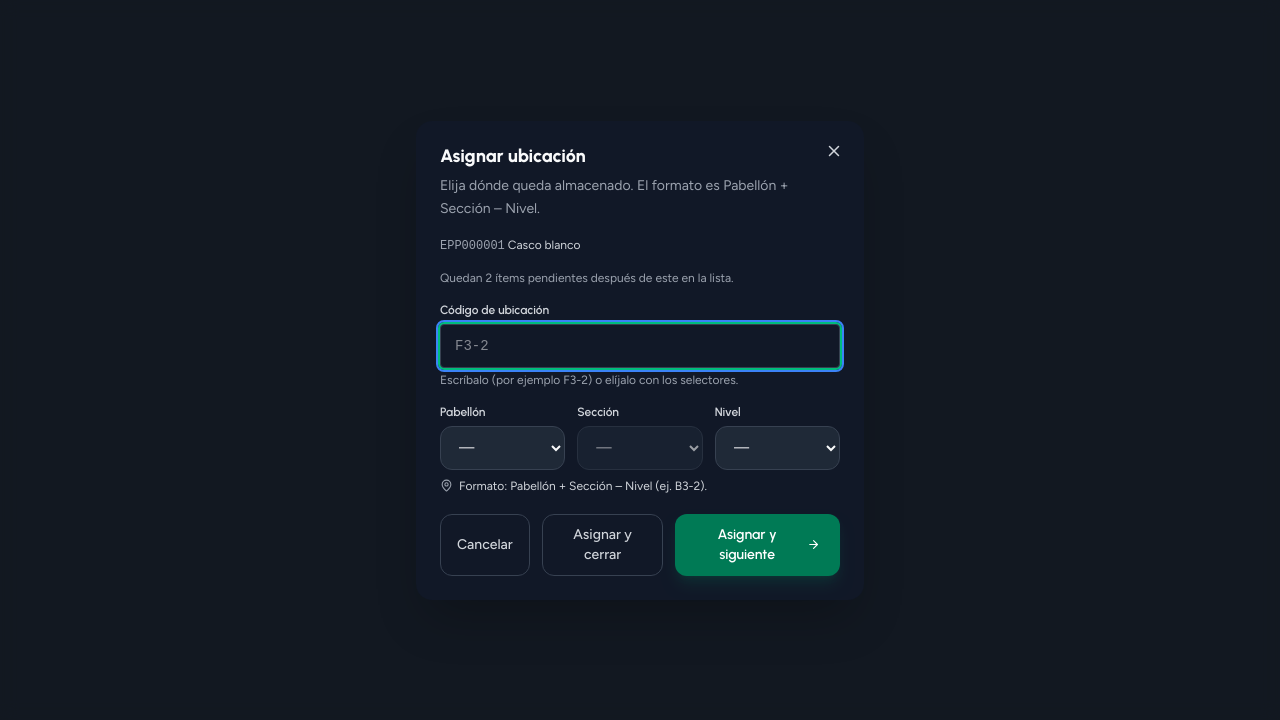
Test case: AssignLocationModal — escribir el código › un código completo pero inexistente (F3-9) sí se avisa
Type "F3-9" into the field labelled "Código de ubicación". click: (640, 346)
box: [440,324,840,368]
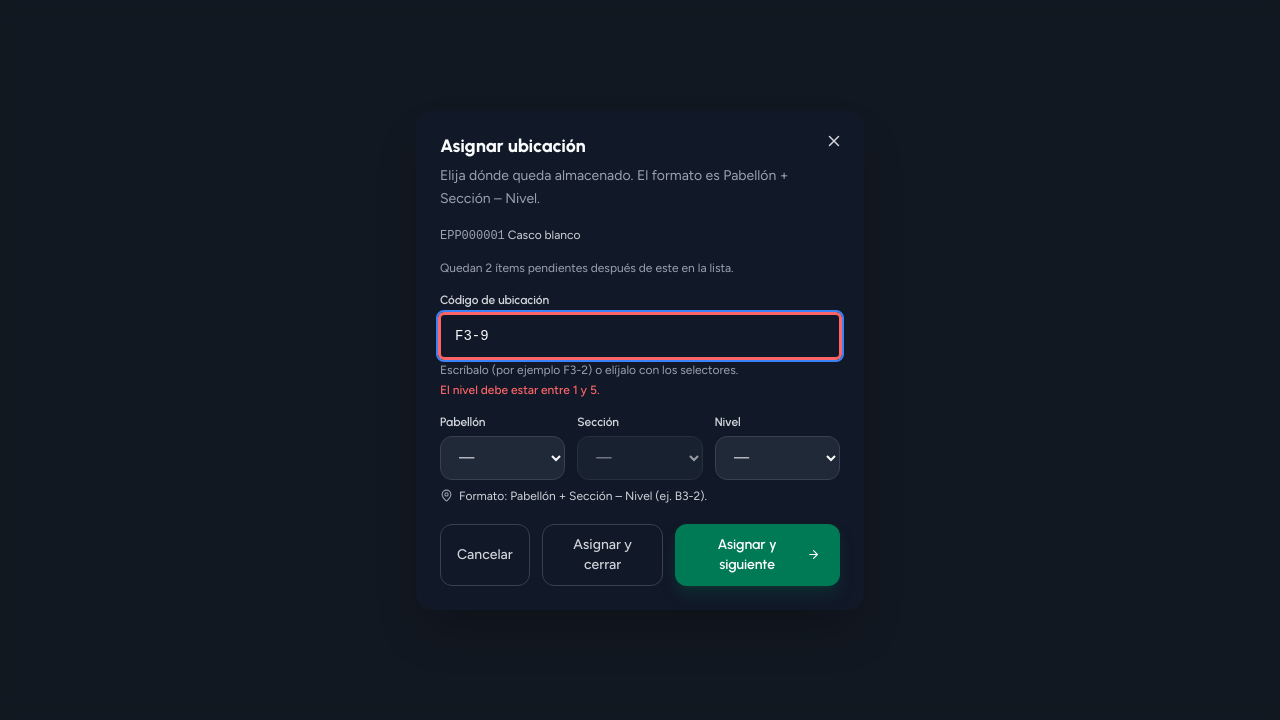
Expected: the text "El nivel debe estar entre 1 y 5." is shown, [440,382,600,396]
